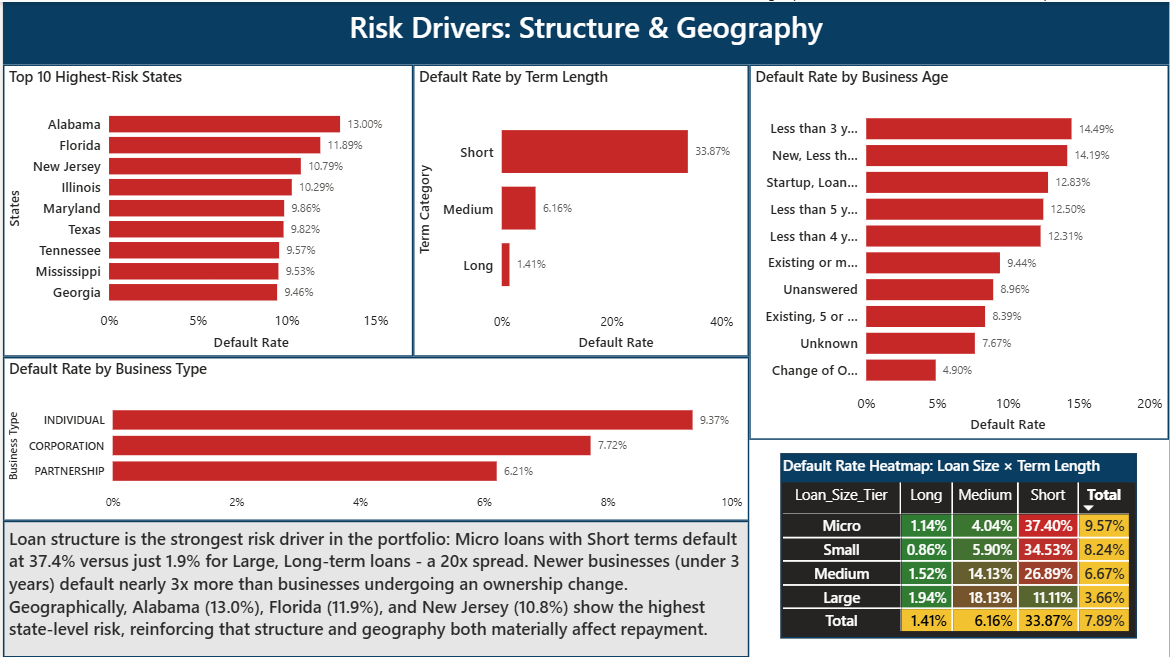

This screenshot's page, from the dashboard's own definition file:
{"tool":"powerbi","page":{"name":"Risk Drivers: Structure & Geography","canvas":[1280,720],"ordinal":2},"visuals":[{"type":"textbox","box":[0,0,1280.3,69],"z":0},{"type":"clusteredBarChart","title":"Default Rate by Term Length","fields":{"Y":["sba_loans.Default Rate"],"Category":["sba_loans.Term_Category"]},"box":[450.1,68.6,369.1,321.1],"z":1000},{"type":"clusteredBarChart","title":"Default Rate by Business Age","fields":{"Y":["sba_loans.Default Rate"],"Category":["sba_loans.BusinessAge"]},"box":[819.2,68.6,461.1,411.7],"z":2000},{"type":"clusteredBarChart","title":"Default Rate by Business Type","fields":{"Y":["sba_loans.Default Rate"],"Category":["sba_loans.BusinessType"]},"box":[0,389.7,819.2,179.8],"z":3000},{"type":"pivotTable","title":"Default Rate Heatmap: Loan Size × Term Length","fields":{"Rows":["sba_loans.Loan_Size_Tier"],"Columns":["sba_loans.Term_Category"],"Values":["sba_loans.Default Rate"]},"box":[853.5,495.4,391.1,203.1],"z":4000},{"type":"clusteredBarChart","title":"Top 10 Highest-Risk States","fields":{"Y":["sba_loans.Default Rate"],"Category":["State_Lookup.State_Name"]},"box":[0,68.6,450.1,321.1],"z":5000},{"type":"textbox","box":[0,569.5,819.2,150.9],"z":6000}]}

Visuals, with their boxes in screenshot pixels (x1, y1, x2, y2), scaled from the page's 1280x720 canvas onto the 1170x657 screenshot:
textbox: (0, 0, 1169, 63)
"Default Rate by Term Length" clusteredBarChart: (411, 63, 749, 356)
"Default Rate by Business Age" clusteredBarChart: (749, 63, 1169, 438)
"Default Rate by Business Type" clusteredBarChart: (0, 356, 749, 520)
"Default Rate Heatmap: Loan Size × Term Length" pivotTable: (780, 452, 1138, 637)
"Top 10 Highest-Risk States" clusteredBarChart: (0, 63, 411, 356)
textbox: (0, 520, 749, 656)
